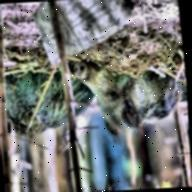boar: (71, 56, 186, 141), (0, 66, 98, 139)
